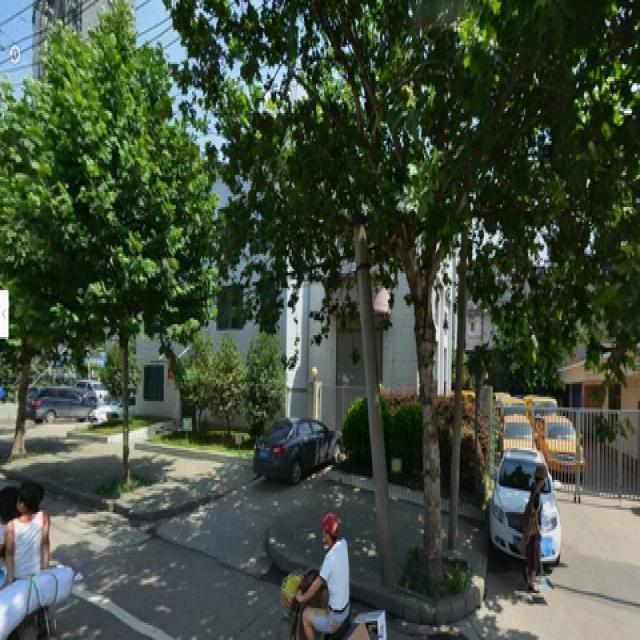meta: (258, 9, 570, 531), (31, 32, 189, 493)
